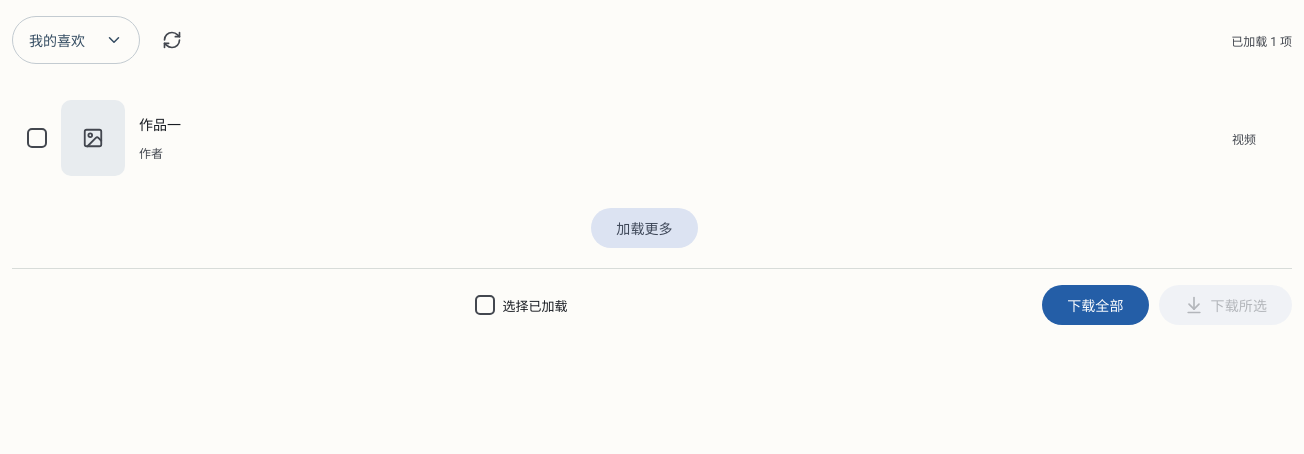
loads pages without duplicates and queues selected works
The width and height of the screenshot is (1304, 454).
Check: the text "作品一" is shown, box [139,117,181,133]
Click the button "加载更多" at (644, 228), box [591,208,698,248]
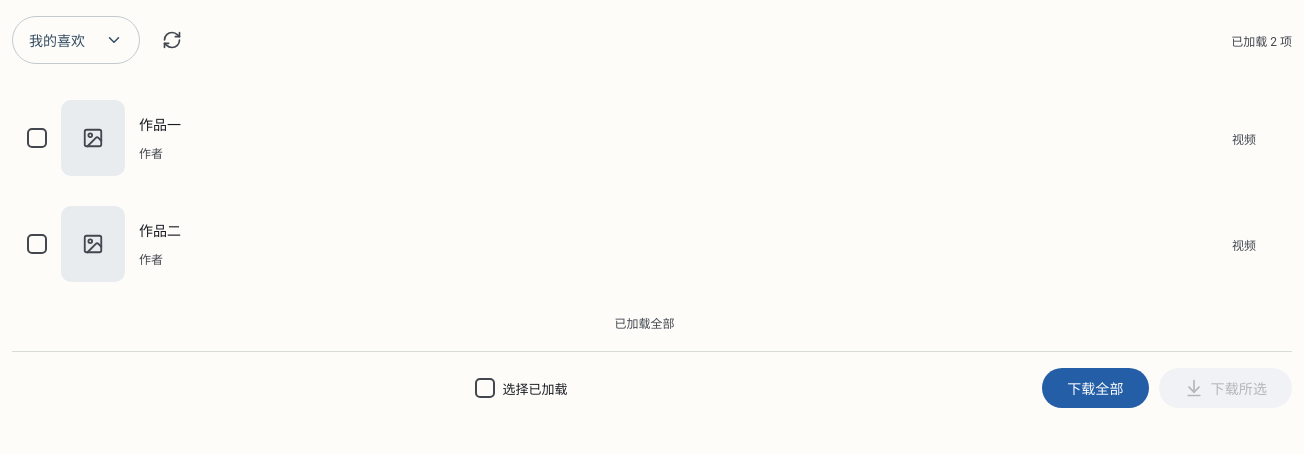
Check: the text "作品一" is shown once, box [139,117,181,133]
Check: the text "作品二" is shown, box [139,223,181,239]
Click the checkbox named "全选已加载作品" at (485, 388), box [475,378,495,398]
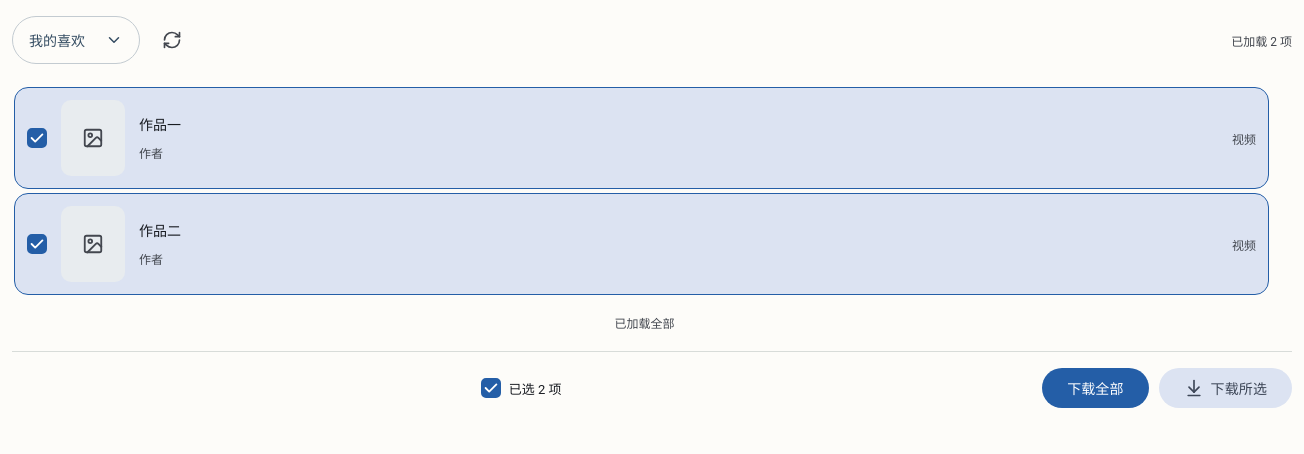
Click the button "下载所选" at (1225, 388), box [1159,368,1292,408]
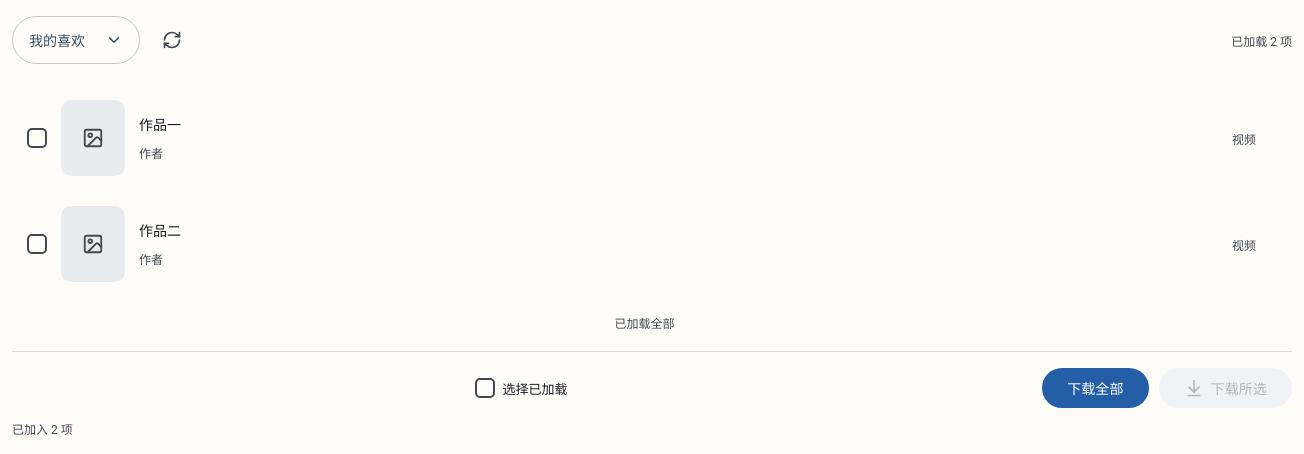
Check: the message reads "已加入 2 项", box [12,423,73,437]
